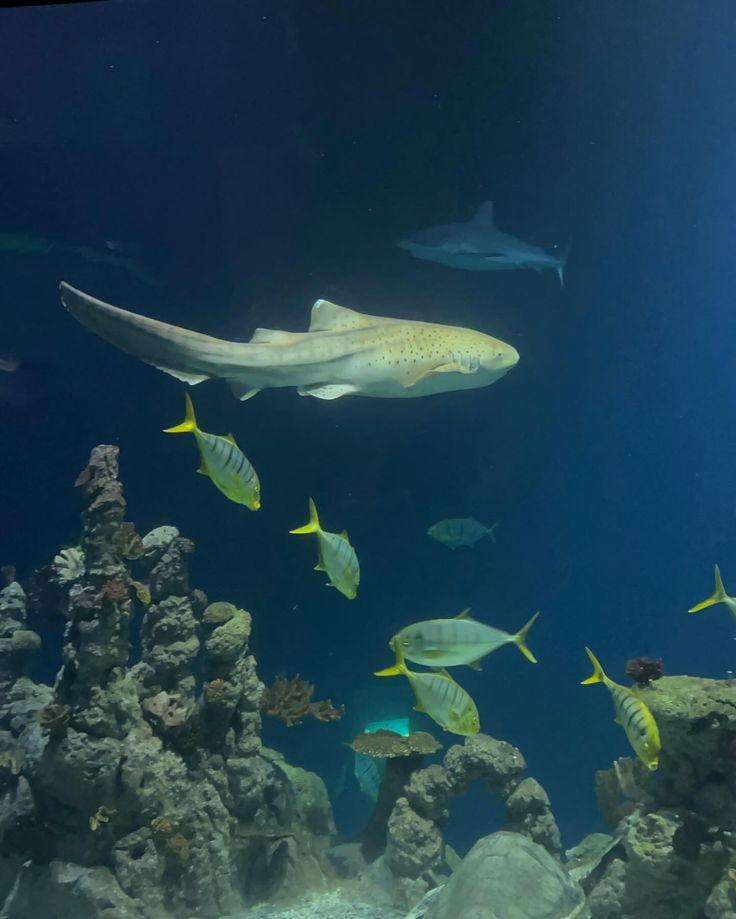fish: (54, 276, 518, 403), (394, 201, 569, 292), (160, 390, 261, 513), (375, 638, 481, 735), (389, 607, 540, 671), (581, 646, 660, 768), (294, 498, 359, 601), (689, 562, 736, 620), (427, 518, 498, 552)
